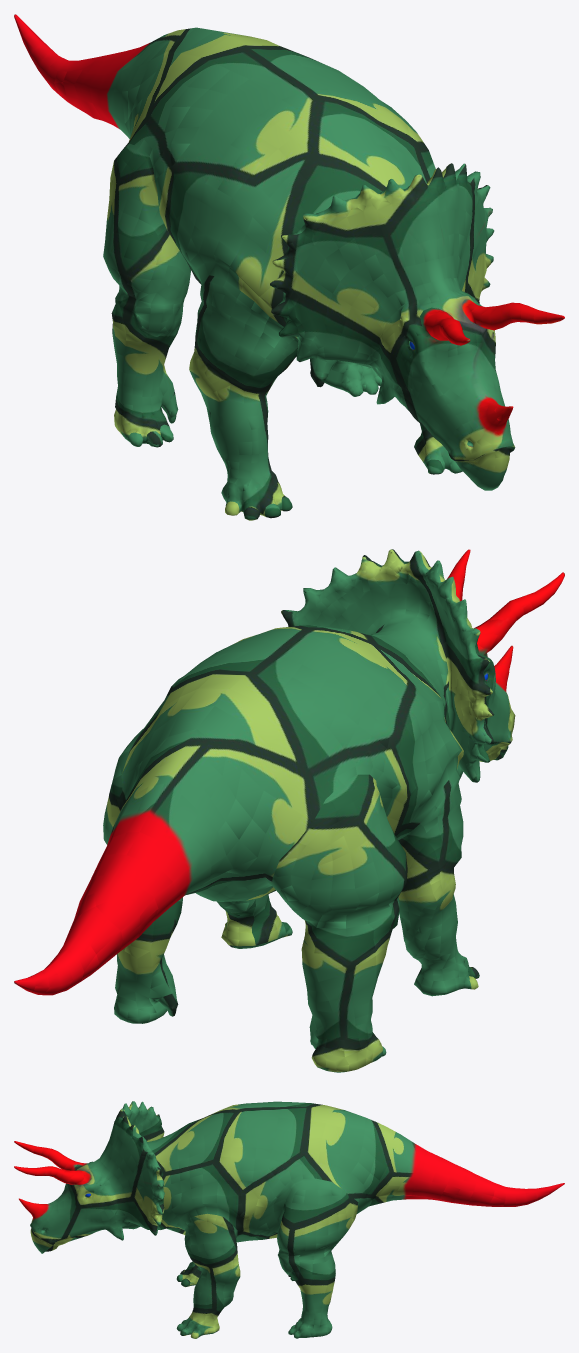
File: tri.obj
The picture shows the model from 3 angles, top to bottom: view 1: azimuth 30°, elevation 25°; view 2: azimuth 150°, elevation 25°; view 3: azimuth 270°, elevation 25°; orthographic projection. The views are drawn at different scales.
Parts seen in each view (by area): view 1: triceratops_uv_.001; view 2: triceratops_uv_.001; view 3: triceratops_uv_.001.
Boxes of the visible parts, x1=… form: triceratops_uv_.001: x1=14, y1=14, x2=564, y2=520; triceratops_uv_.001: x1=14, y1=549, x2=564, y2=1072; triceratops_uv_.001: x1=14, y1=1101, x2=564, y2=1338.
Size of the model in its own units: 3.68 by 4.44 by 11.16.
